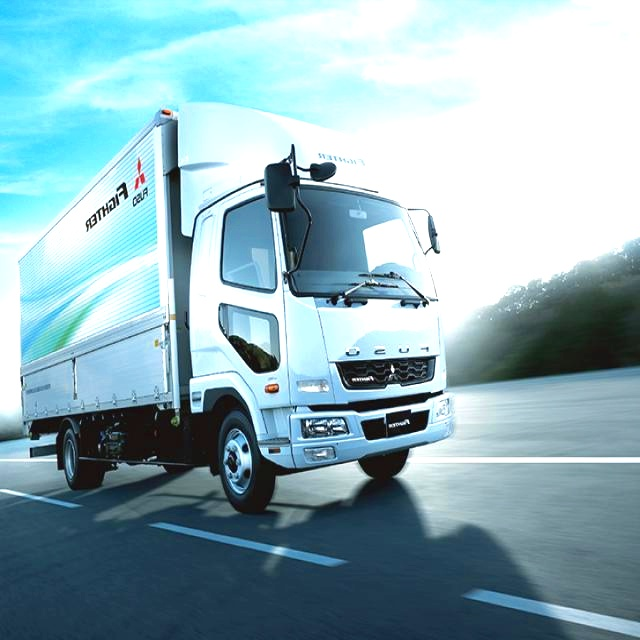truck: (0, 54, 551, 526)
